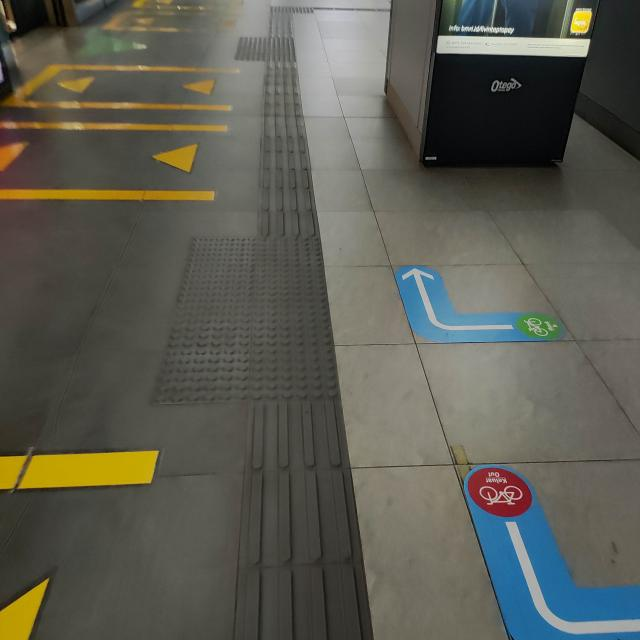lurus: (229, 30, 363, 608)
